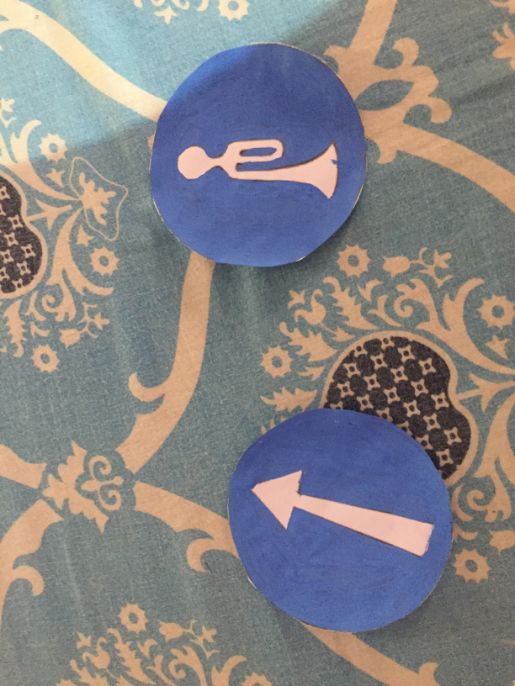blow-horn: (150, 46, 367, 272)
keep-left: (229, 409, 453, 631)
